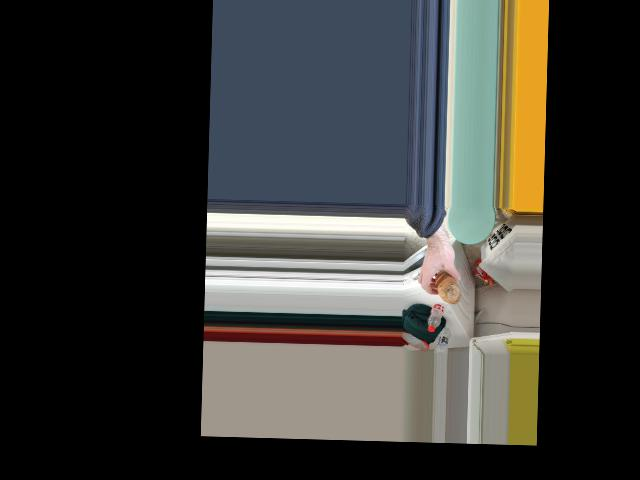sweet_potato: (432, 269, 461, 304)
